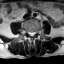CCS_stenosis: (31, 29, 33, 38)
LFS_normal: (35, 28, 37, 35)
LLS_normal: (33, 29, 35, 36)
RFS_normal: (26, 29, 29, 36)
RLS_normal: (29, 29, 31, 37)
